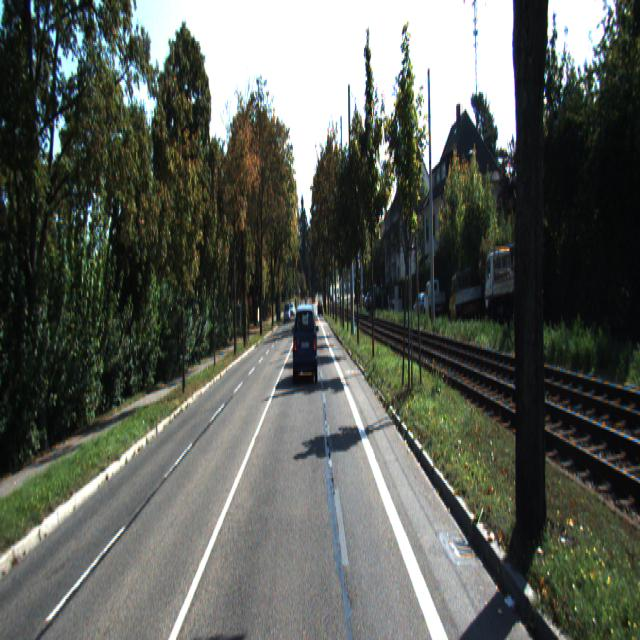Car: (484, 236, 541, 325), (292, 301, 318, 385), (448, 269, 482, 325), (424, 278, 446, 318)
